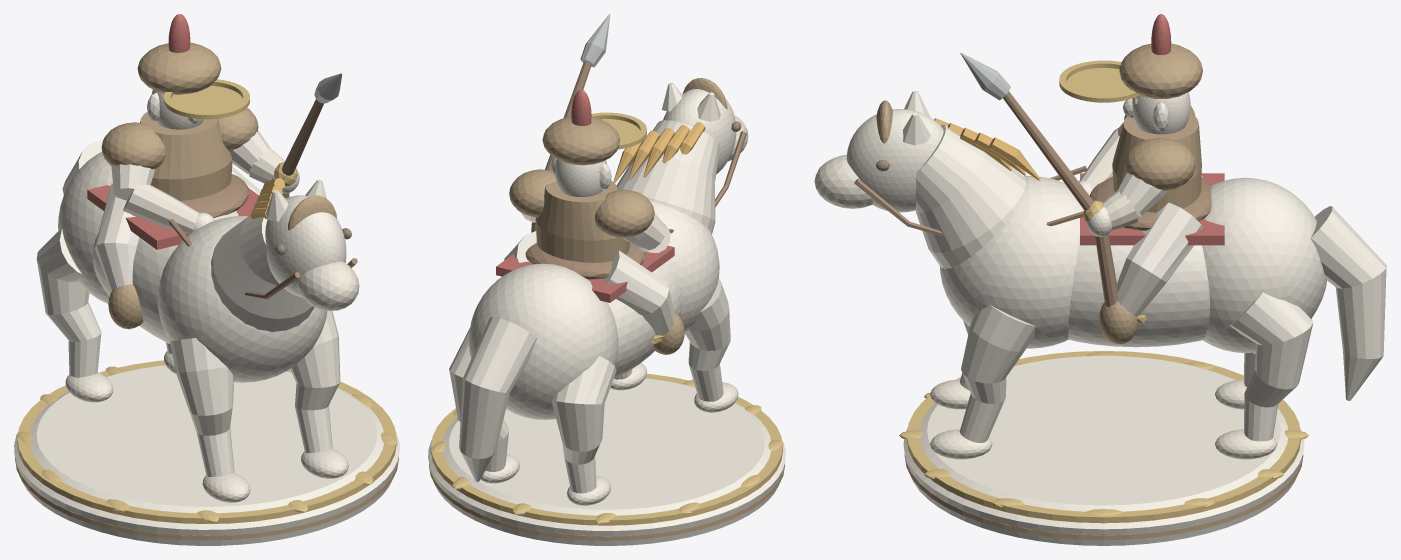
3 views of the same model, side by side, from view 1: azimuth 30°, elevation 25°; view 2: azimuth 150°, elevation 25°; view 3: azimuth 270°, elevation 25° (orthographic). The views are drawn at different scales.
Parts seen in each view (by area): view 1: Plinth_Stone, Horse_Shoulder, Horse_Neck, Plinth_GoldRim, Horse_Leg_-1_F, Horse_Leg_-1_B, Rider_Torso, Horse_Head, Horse_Leg_1_F, Horse_Hindquarters, Rider_Helmet_Crown, Rider_Thigh_-1 (+24 smaller); view 2: Plinth_Stone, Horse_Hindquarters, Horse_Tail, Horse_Neck, Horse_Leg_-1_B, Plinth_GoldRim, Rider_Torso, Horse_Shoulder, Horse_Leg_-1_F, Rider_Thigh_-1, Rider_Helmet_Crown, Horse_Body (+25 smaller); view 3: Plinth_Stone, Horse_Hindquarters, Horse_Shoulder, Horse_Neck, Horse_Body, Horse_Tail, Horse_Leg_1_B, Plinth_GoldRim, Horse_Leg_1_F, Horse_Head, Rider_Thigh_1, Rider_Helmet_Crown (+21 smaller).
Boxes of the visible parts, <box> form: Plinth_Stone: <box>14,365,399,545</box>; Horse_Shoulder: <box>158,216,327,382</box>; Horse_Neck: <box>211,215,314,332</box>; Plinth_GoldRim: <box>17,360,396,523</box>; Horse_Leg_-1_F: <box>170,338,234,476</box>; Horse_Leg_-1_B: <box>36,229,101,377</box>; Rider_Torso: <box>140,112,232,200</box>; Horse_Head: <box>265,195,346,297</box>; Horse_Leg_1_F: <box>290,311,340,452</box>; Horse_Hindquarters: <box>58,151,112,303</box>; Rider_Helmet_Crown: <box>137,42,221,94</box>; Rider_Thigh_-1: <box>94,183,139,292</box>; Plinth_Stone: <box>428,378,785,545</box>; Horse_Hindquarters: <box>468,263,618,419</box>; Horse_Tail: <box>459,317,536,481</box>; Horse_Neck: <box>616,120,719,234</box>; Horse_Leg_-1_B: <box>551,356,616,493</box>; Plinth_GoldRim: <box>431,374,782,525</box>; Rider_Torso: <box>535,180,629,262</box>; Horse_Shoulder: <box>649,200,719,331</box>; Horse_Leg_-1_F: <box>684,279,730,401</box>; Rider_Thigh_-1: <box>604,250,675,335</box>; Rider_Helmet_Crown: <box>542,116,620,165</box>; Horse_Body: <box>607,262,682,378</box>; Plinth_Stone: <box>903,356,1304,545</box>; Horse_Hindquarters: <box>1202,177,1326,353</box>; Horse_Shoulder: <box>939,175,1083,348</box>; Horse_Neck: <box>915,124,1027,269</box>; Horse_Body: <box>1068,209,1209,347</box>; Horse_Tail: <box>1310,206,1386,400</box>; Horse_Leg_1_B: <box>1229,292,1313,441</box>; Plinth_GoldRim: <box>907,351,1300,523</box>; Horse_Leg_1_F: <box>959,305,1035,442</box>; Horse_Head: <box>846,109,943,212</box>; Rider_Thigh_1: <box>1117,202,1202,316</box>; Rider_Helmet_Crown: <box>1119,43,1202,98</box>.
Bounding box in the file's own units: 0.68 × 0.84 × 0.97.
